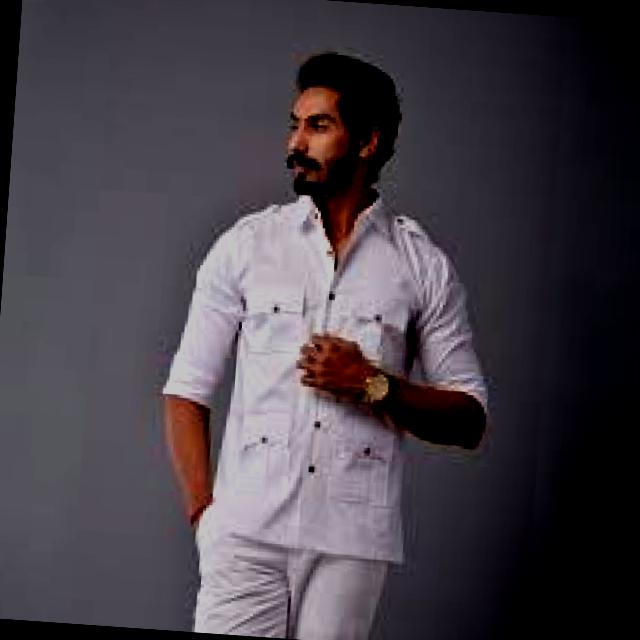face: (280, 44, 402, 204)
lower-wear: (180, 509, 384, 640)
top-wear: (155, 188, 494, 570)
